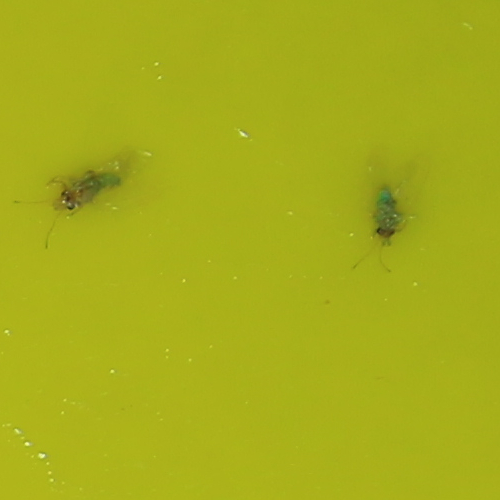Glycaspis: (52, 165, 123, 212), (372, 185, 395, 245)
